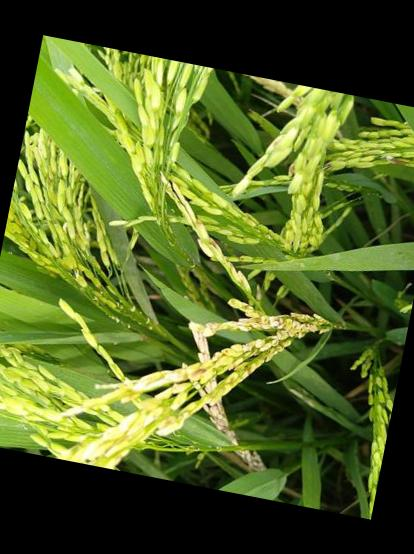Panicle Blight: (198, 218, 220, 248), (187, 362, 206, 381), (263, 316, 284, 327)
